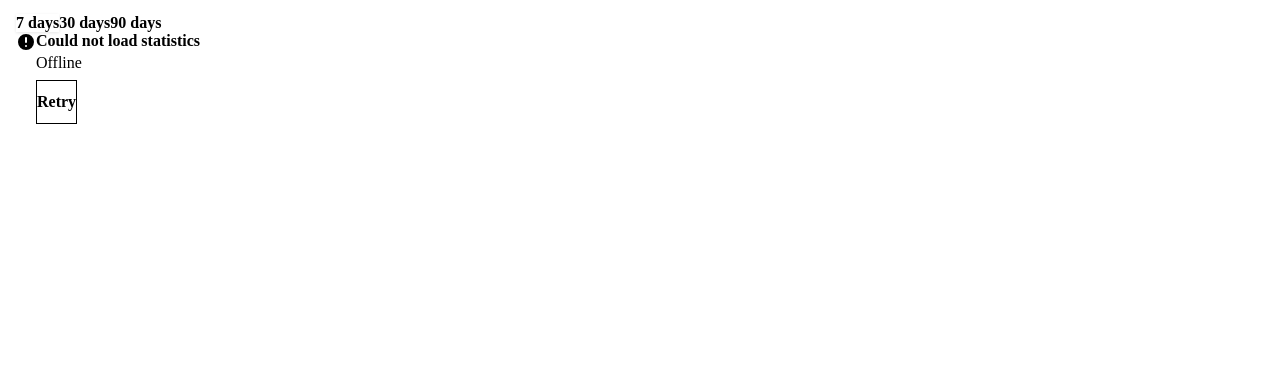
Test case: InsightsView › offers a retry after a failed request
Check: the text "Offline" is shown, box top-left (36, 54), bottom-right (82, 71)
Click the button "Retry" at (57, 102), box top-left (36, 80), bottom-right (77, 124)
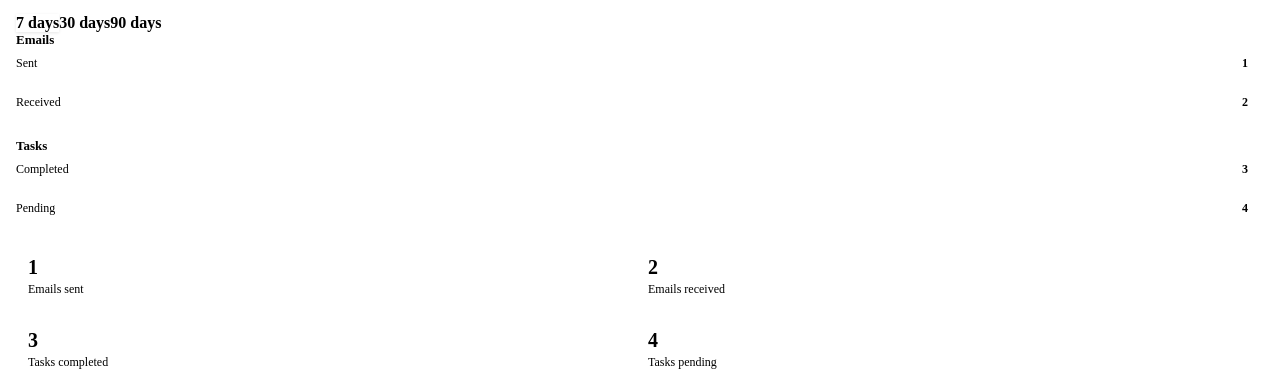
Check: the text "Emails sent" is shown, box top-left (28, 282), bottom-right (84, 296)
